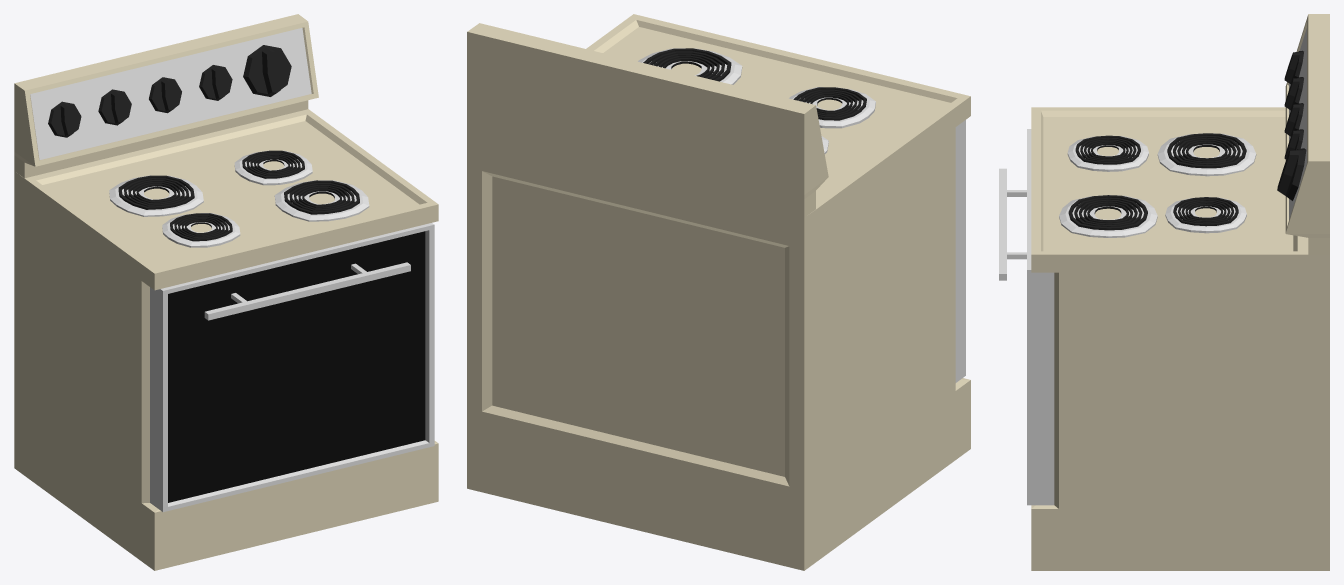
The model's file is low_poly_80s_stove.glb.
The picture shows the model from 3 angles, left to right: view 1: azimuth 30°, elevation 25°; view 2: azimuth 150°, elevation 25°; view 3: azimuth 270°, elevation 25°; orthographic projection. The views are drawn at different scales.
Parts seen in each view (by area): view 1: Cube_3, Cube.005_7, Cube.004_6, Cube.003_5, Cube.002_2, Cube.001_4; view 2: Cube_3, Cube.004_6, Cube.005_7; view 3: Cube_3, Cube.005_7, Cube.004_6, Cube.003_5, Cube.002_2, Cube.001_4.
Boxes of the visible parts, bbox=[...] form: Cube_3: bbox=[14, 14, 438, 570]; Cube.005_7: bbox=[109, 175, 369, 221]; Cube.004_6: bbox=[162, 150, 312, 247]; Cube.003_5: bbox=[48, 65, 232, 137]; Cube.002_2: bbox=[204, 262, 410, 320]; Cube.001_4: bbox=[243, 45, 291, 96]; Cube_3: bbox=[467, 14, 970, 570]; Cube.004_6: bbox=[789, 87, 875, 128]; Cube.005_7: bbox=[638, 48, 828, 154]; Cube_3: bbox=[1027, 14, 1329, 570]; Cube.005_7: bbox=[1059, 133, 1256, 237]; Cube.004_6: bbox=[1067, 135, 1246, 233]; Cube.003_5: bbox=[1284, 50, 1303, 159]; Cube.002_2: bbox=[999, 168, 1026, 280]; Cube.001_4: bbox=[1277, 148, 1306, 200].
Bounding box in the file's own units: 2 × 2.59 × 1.9.
